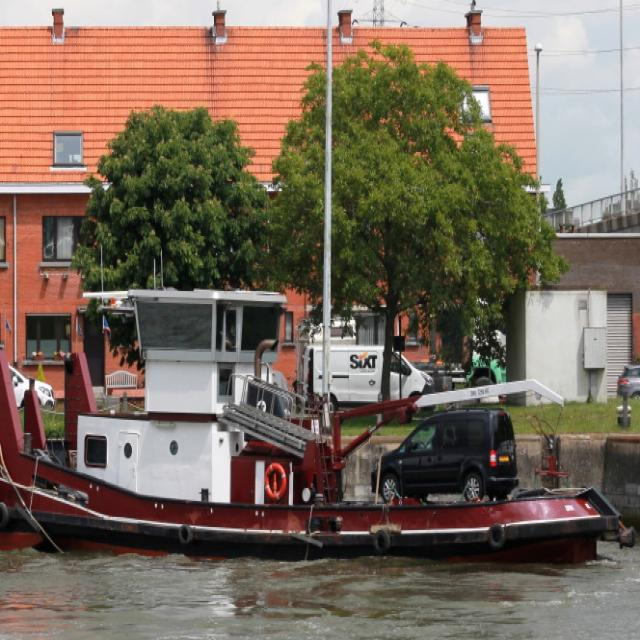tugboat: (1, 279, 640, 586)
